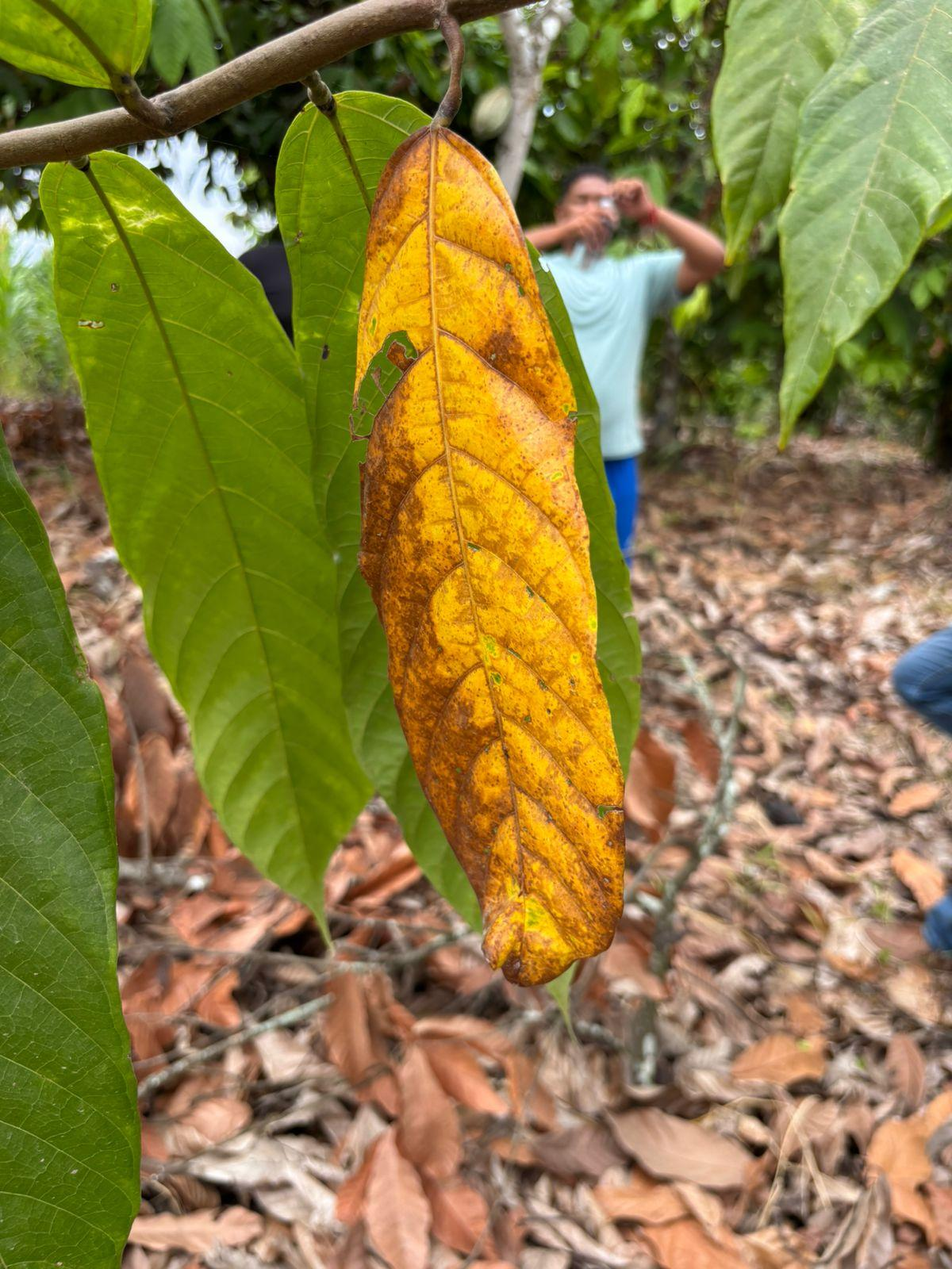deficienciia_fosforo: (354, 121, 623, 984)
